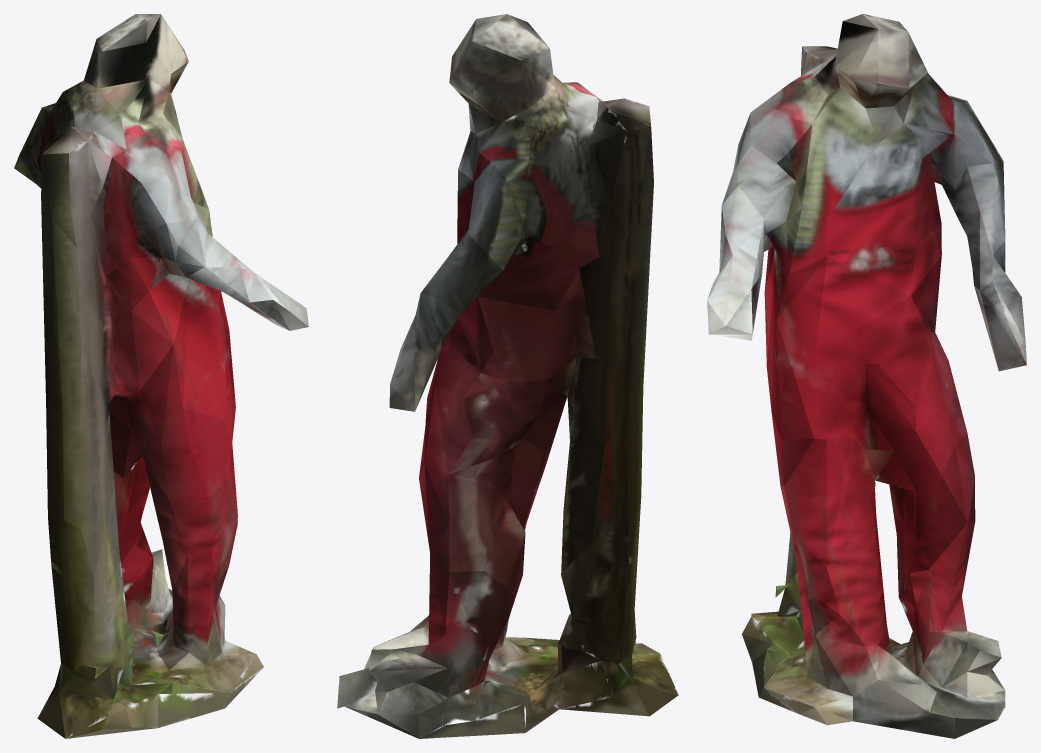
Rendered from kakashi_15b.fbx.
The picture shows the model from 3 angles, left to right: view 1: azimuth 30°, elevation 25°; view 2: azimuth 150°, elevation 25°; view 3: azimuth 270°, elevation 25°; orthographic projection. The views are drawn at different scales.
Parts seen in each view (by area): view 1: MeshS; view 2: MeshS; view 3: MeshS.
Part boxes in pixels (left/top/right/bottom): MeshS: left=14, top=14, right=308, bottom=738; MeshS: left=337, top=14, right=678, bottom=738; MeshS: left=707, top=14, right=1026, bottom=738.
Bounding box in the file's own units: 13.49 × 35.32 × 15.27.
1 material, 1 textured.
